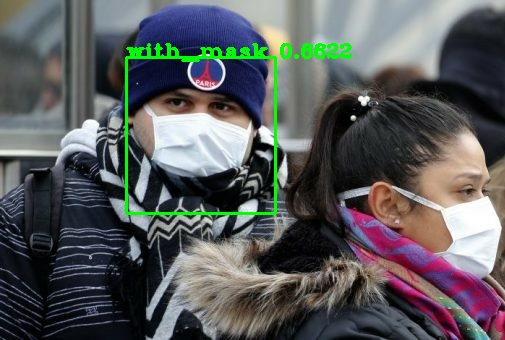with_mask: (378, 117, 505, 298), (136, 60, 260, 192)
